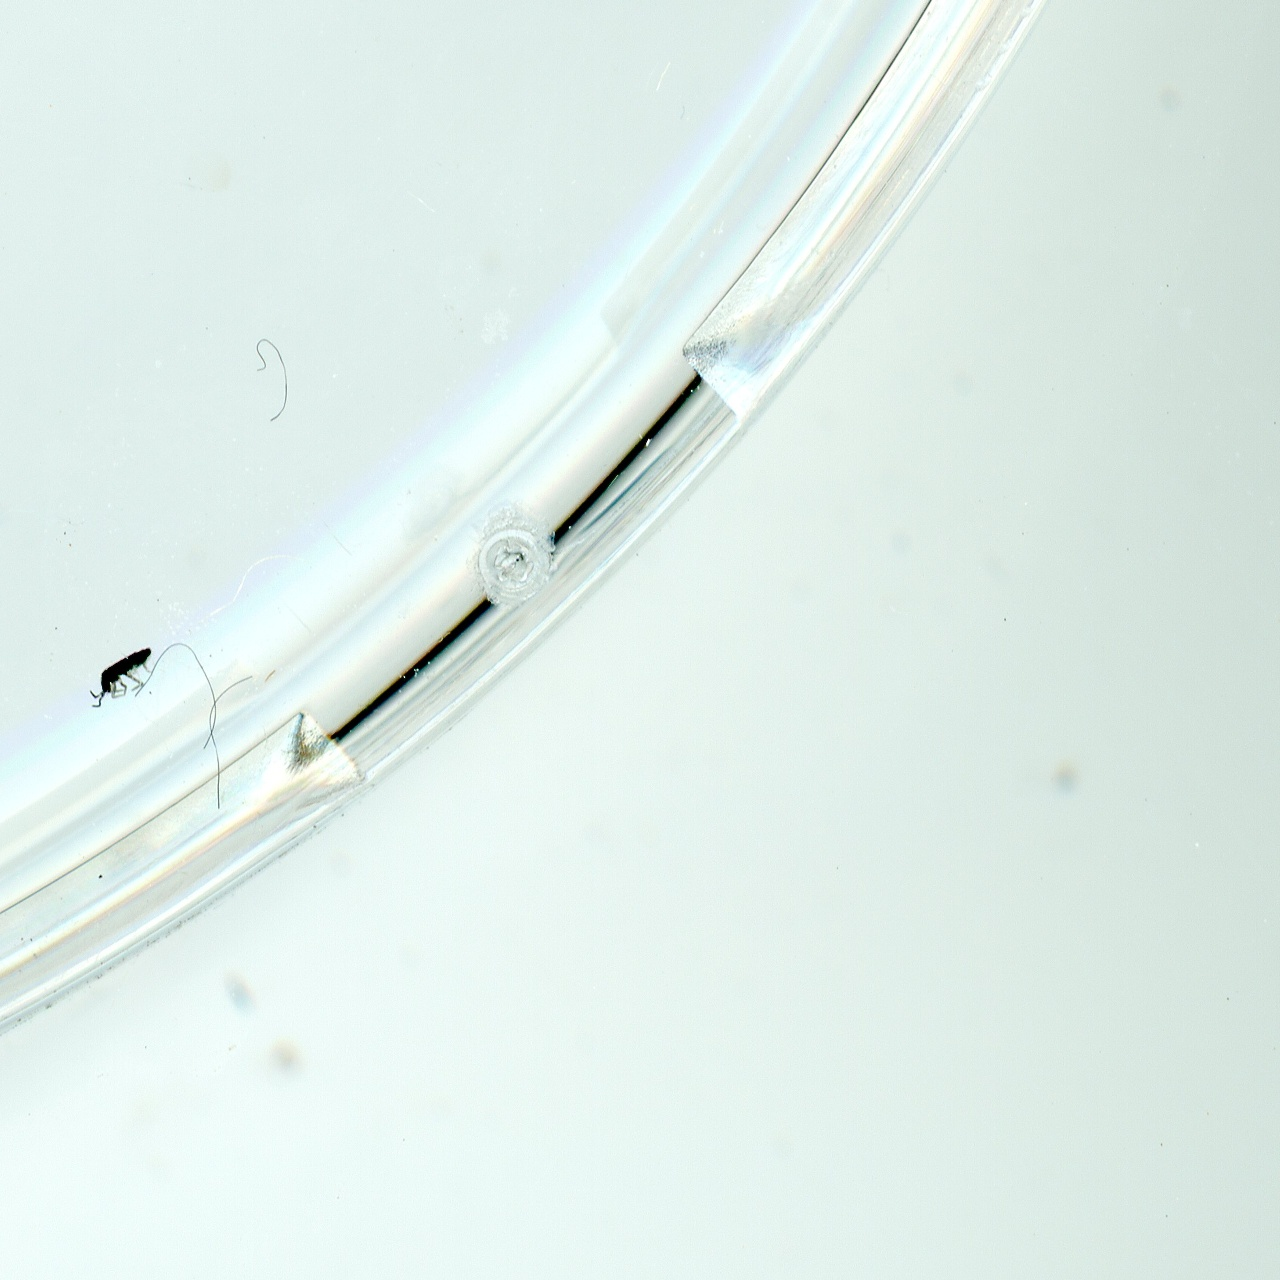arthropod: (84, 630, 163, 717)
